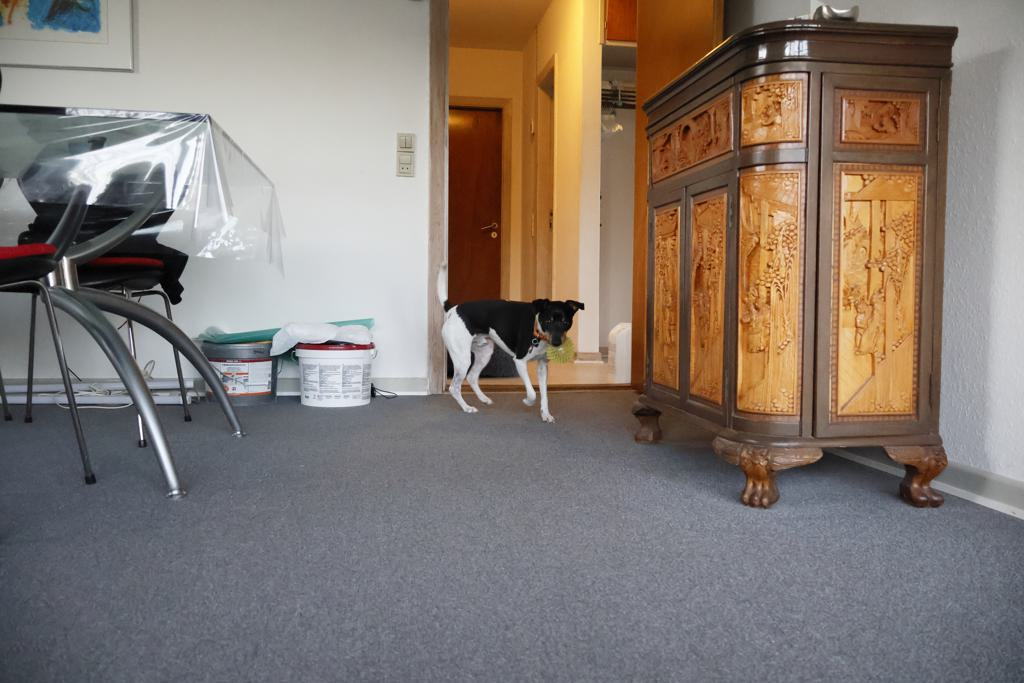Dog: (433, 252, 589, 428)
